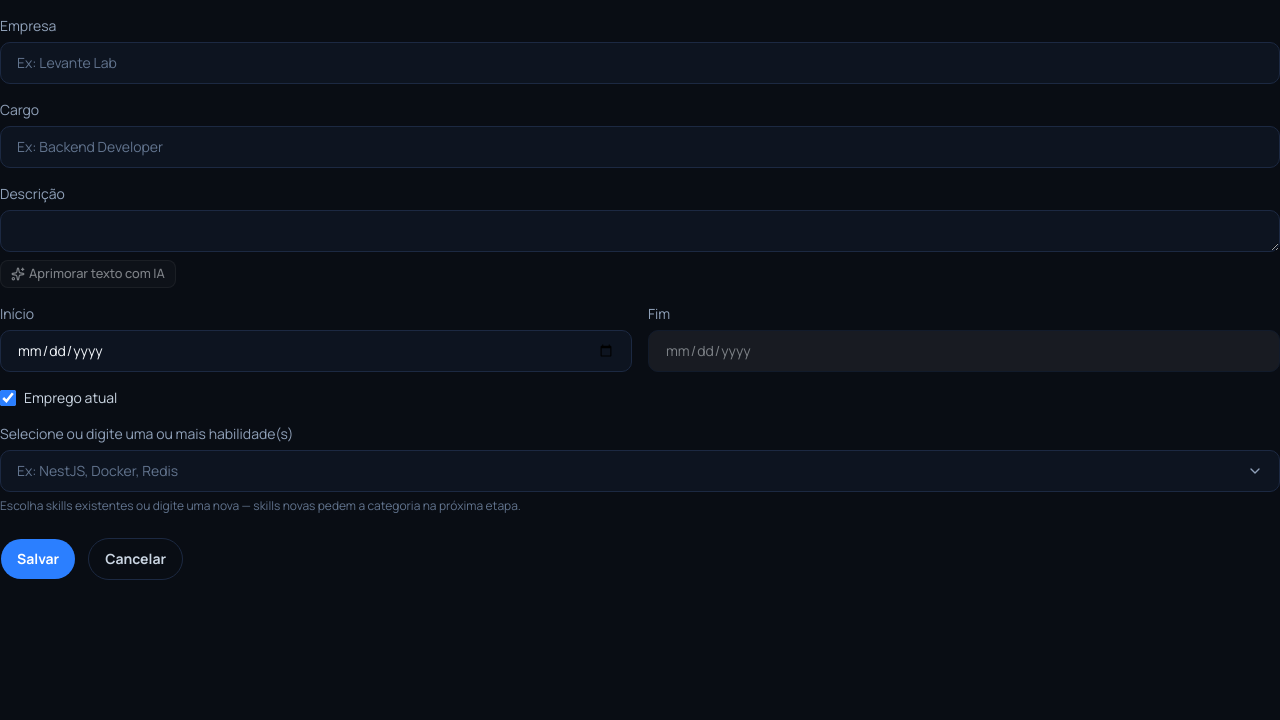
Test: ExperienceForm › applies an AI suggestion to the experience description only on confirmation
Type "Desenvolvimento de APIs com NestJS e PostgreSQL." into the text box labelled "Descrição" at (640, 231), box [0,210,1279,252]
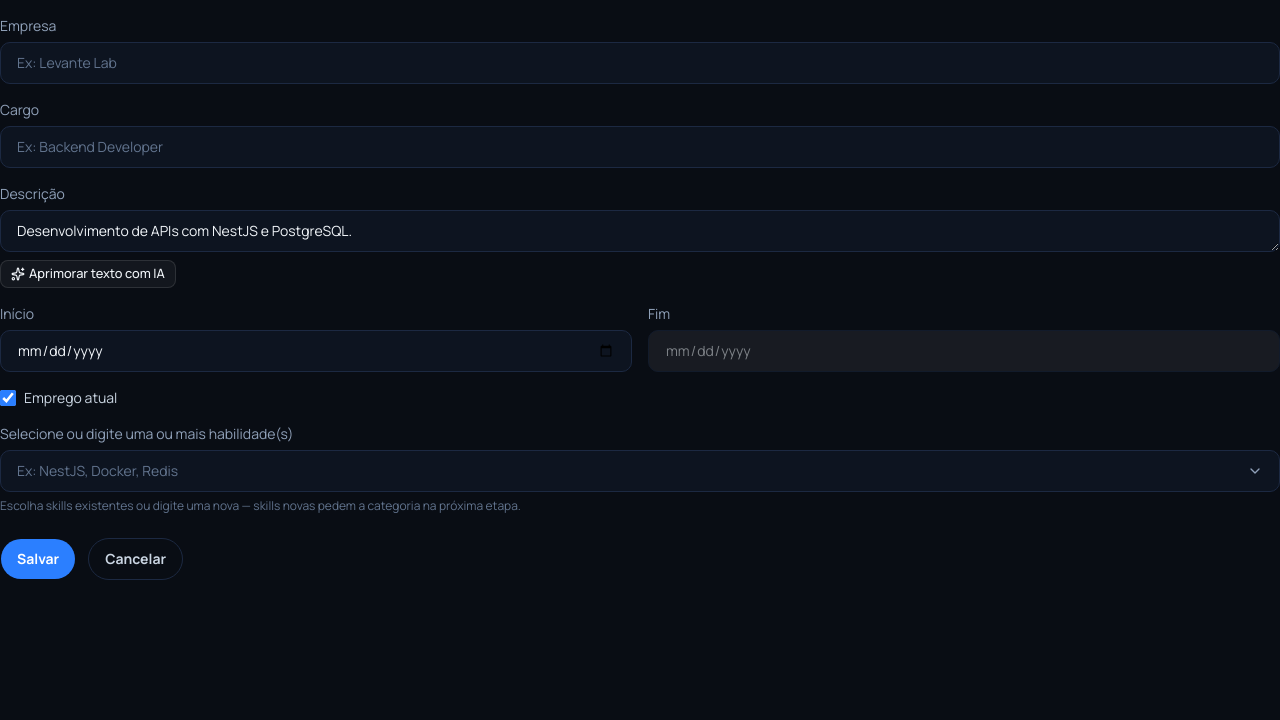
Click the button "Aprimorar texto com IA" at (88, 274), box [0,260,176,288]
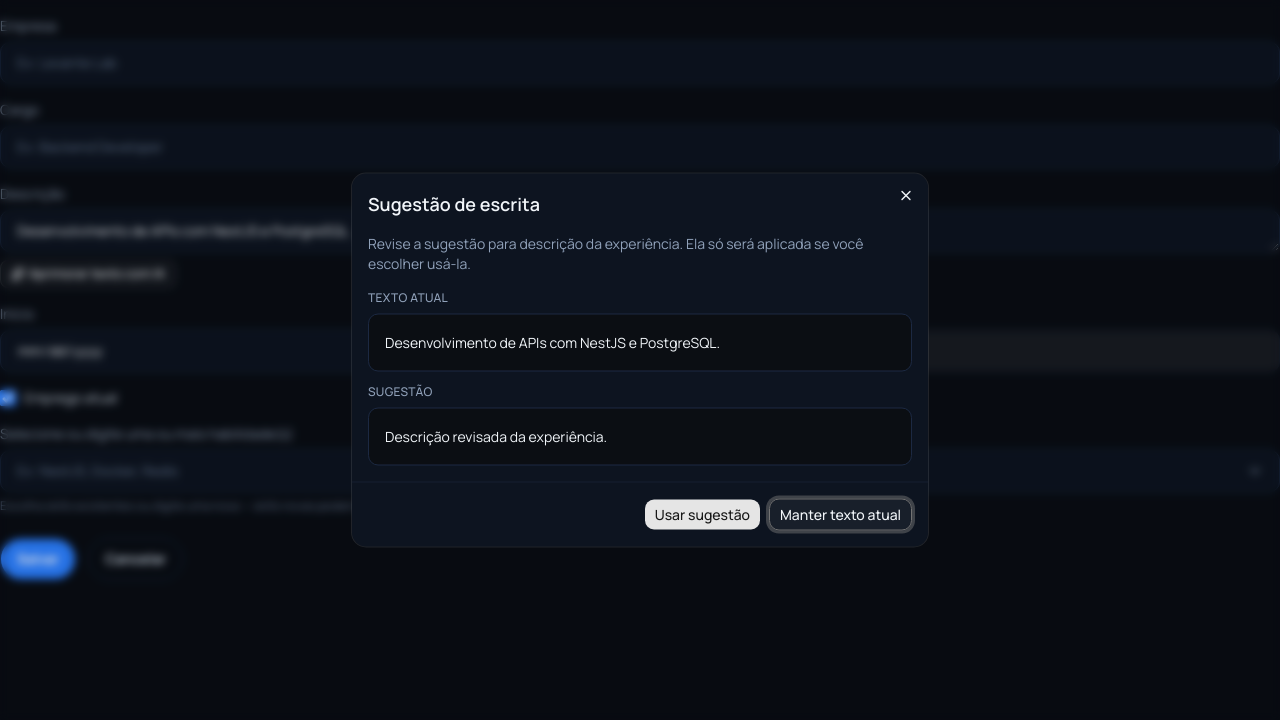
Expected: the text "Descrição revisada da experiência." is shown, [368,408,912,466]
Click the button "Usar sugestão" at (702, 514), box [644,498,761,530]
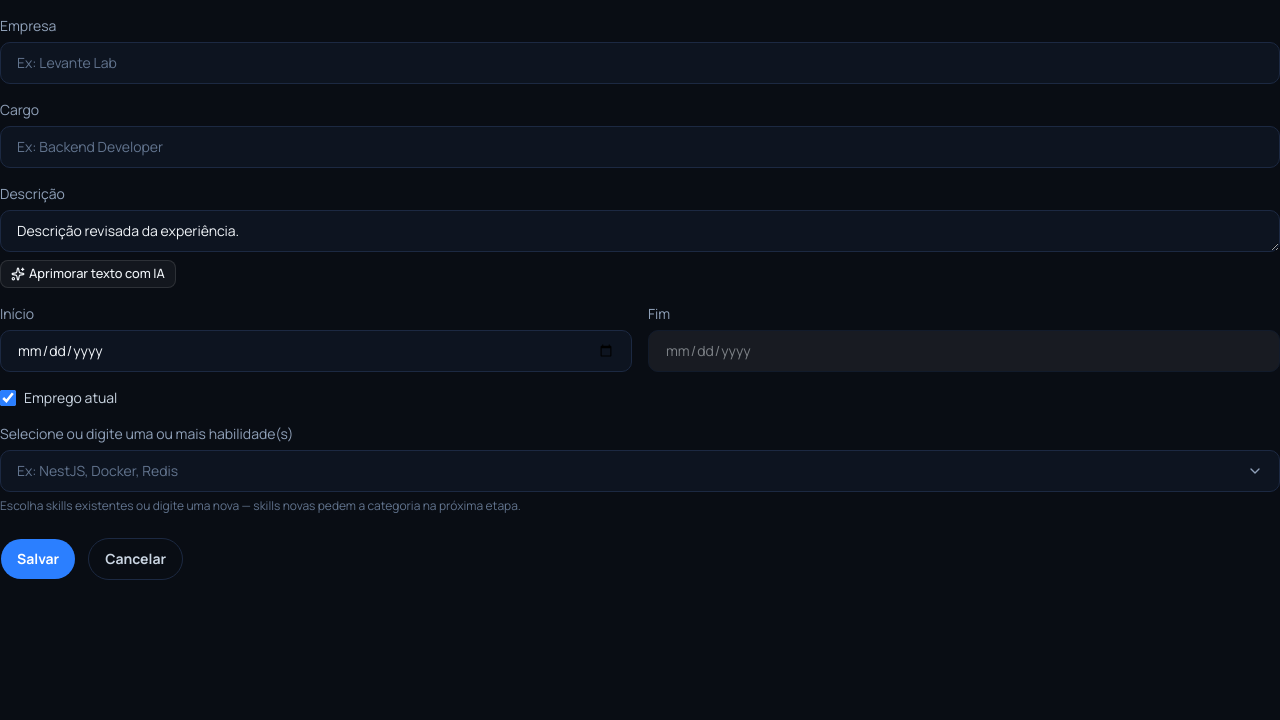
Expected: the text box labelled "Descrição" holds "Descrição revisada da experiência.", [0,210,1279,252]
